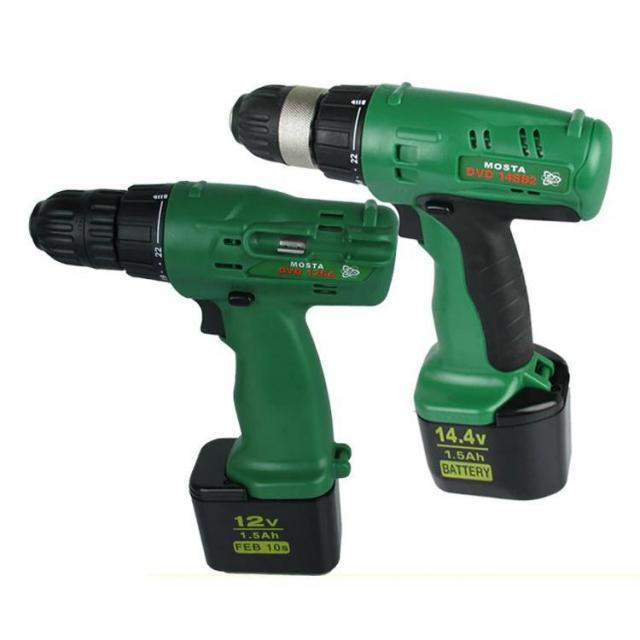drill: (229, 82, 614, 500), (29, 179, 399, 575)
